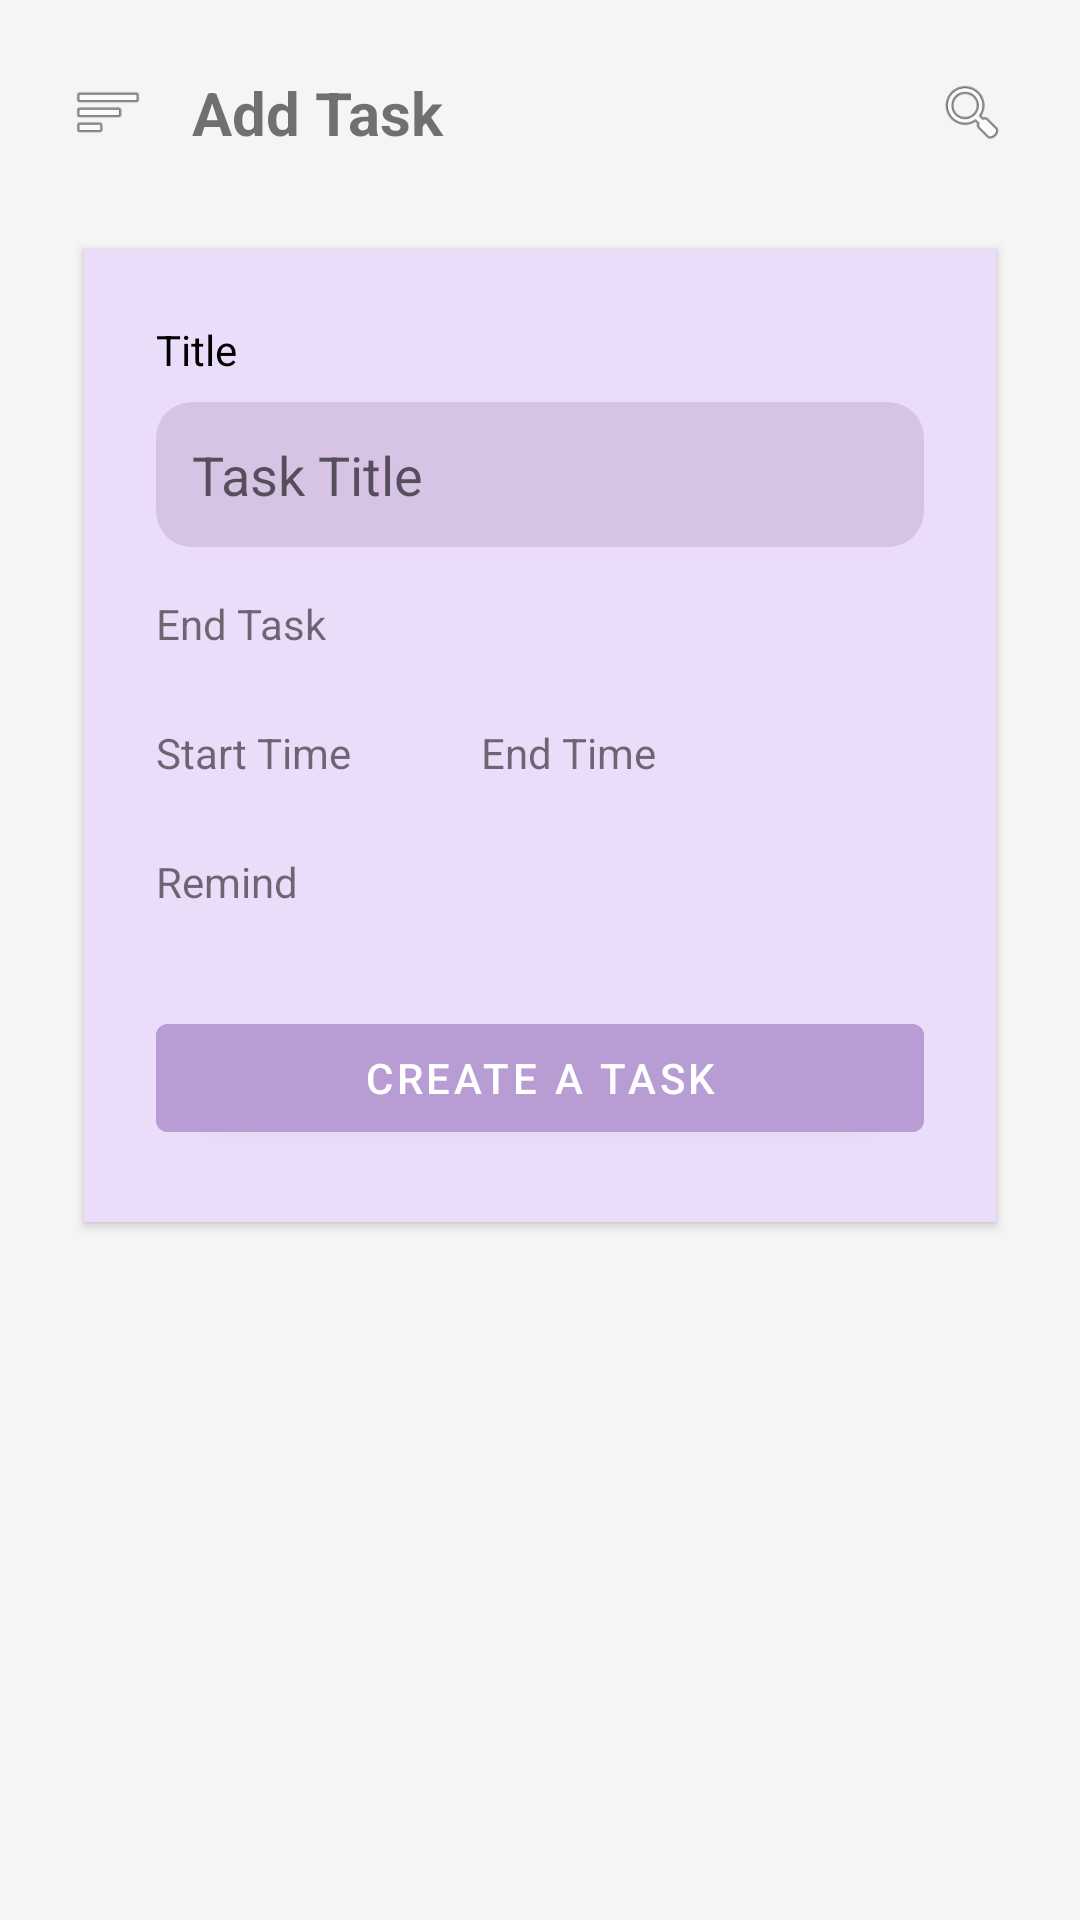

Point at icon controls on the screen. Image size 1080×1920, points as (x,y).
search: (972,112)
sort by size: (108,112)
